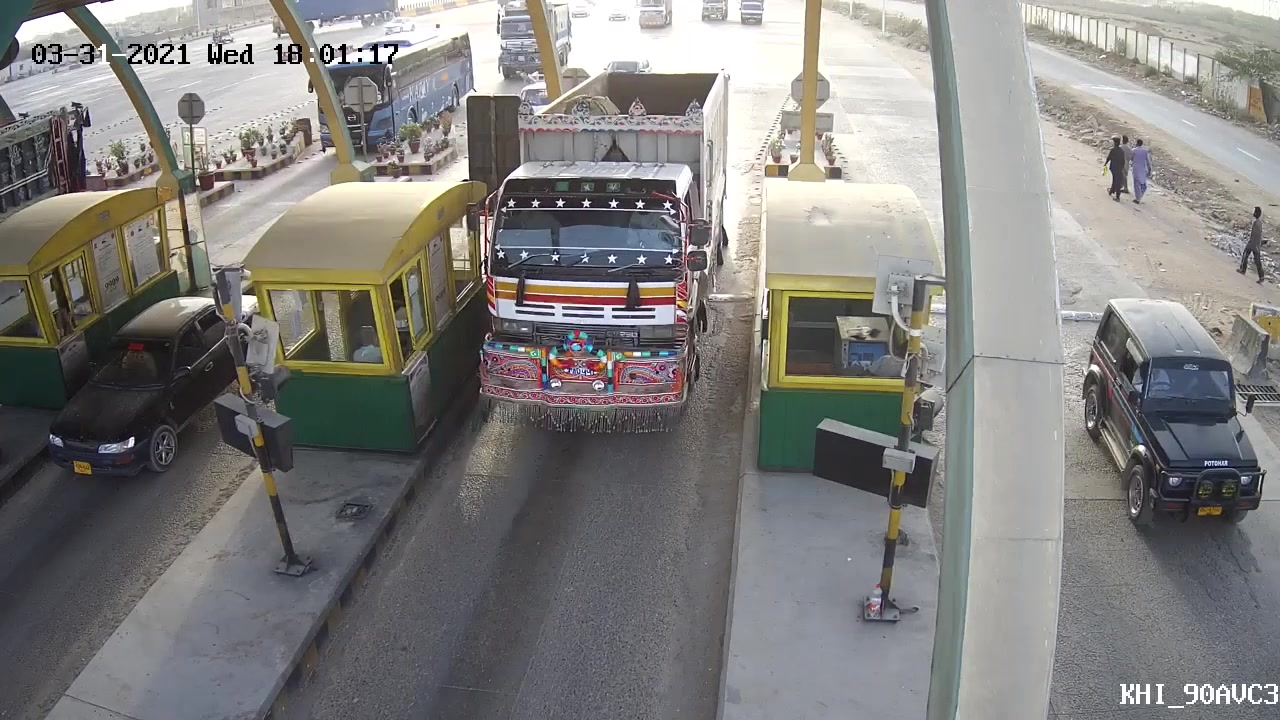F5: (468, 92, 723, 448)
